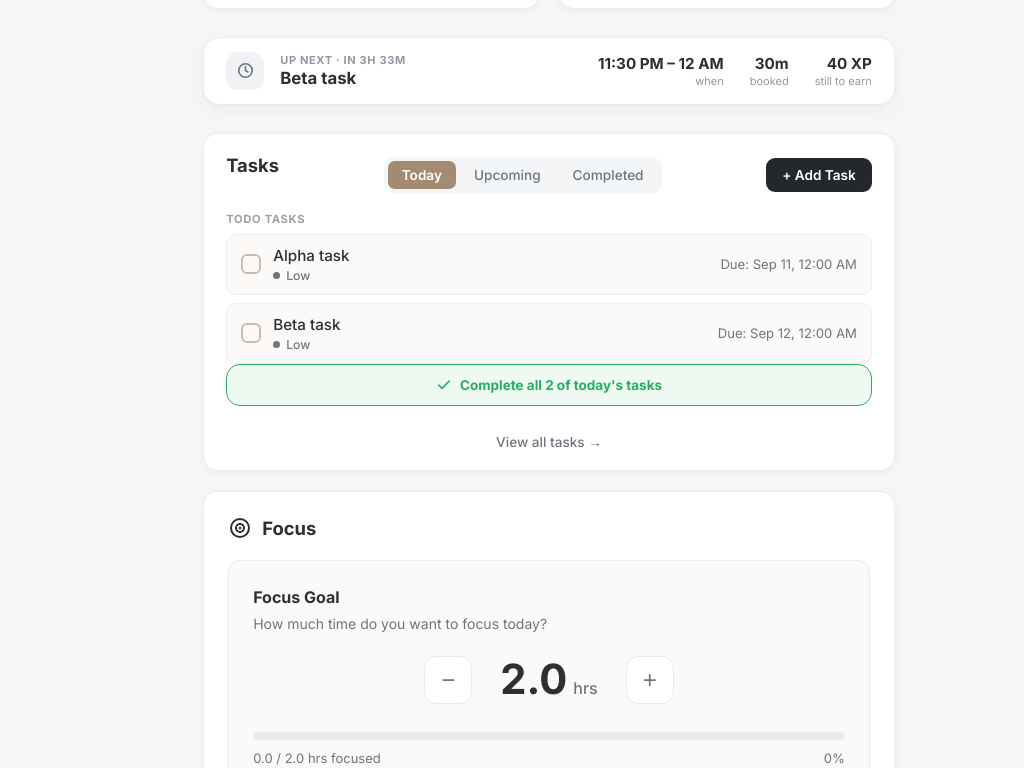
Test case: finishing the day from the dashboard › then asks about each one in turn
(page scrolled)
Step 1. Click the button "Complete all 2 of today's tasks" → x=549, y=385, box [226,364,872,406]
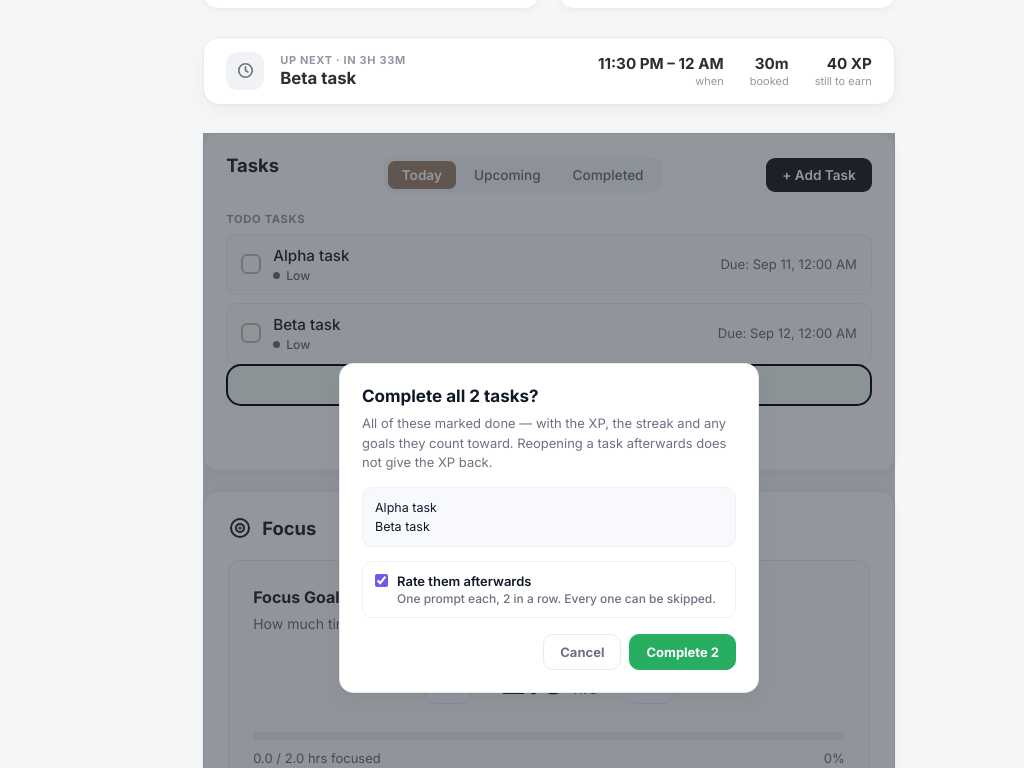
Step 2. Click the button "Complete 2" → x=683, y=652, box [629,634,736,670]
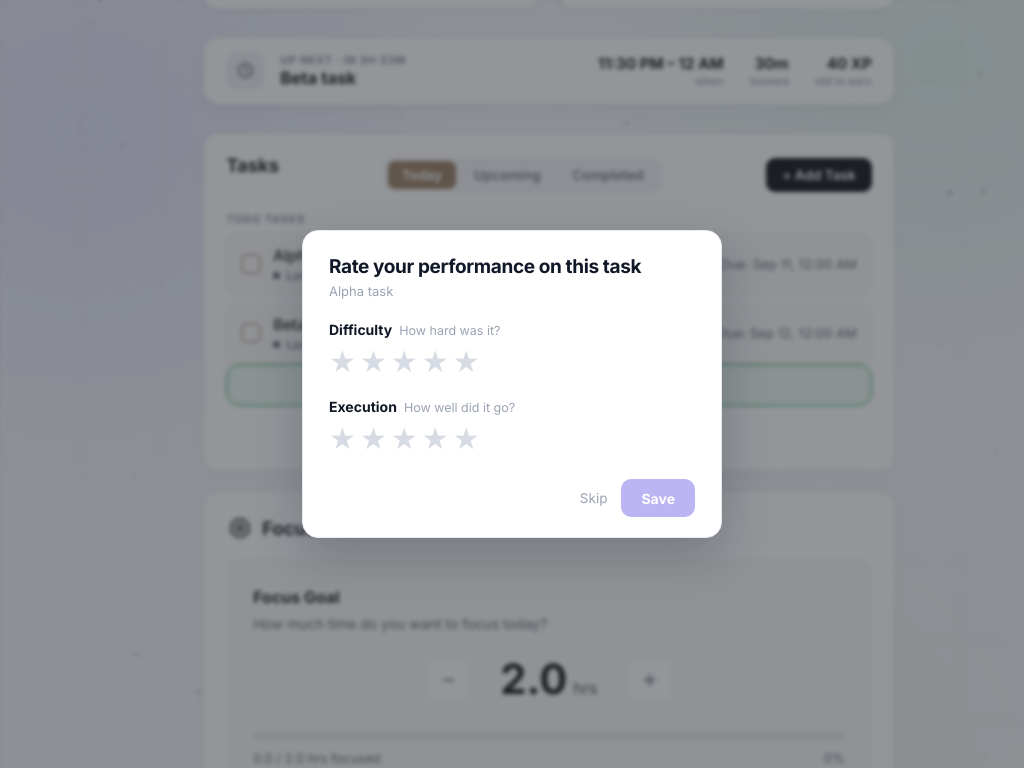
Now the text "Alpha task" is shown, box [329,283,393,299]
Step 3. Click the button "Skip" → x=594, y=498, box [580,490,607,506]
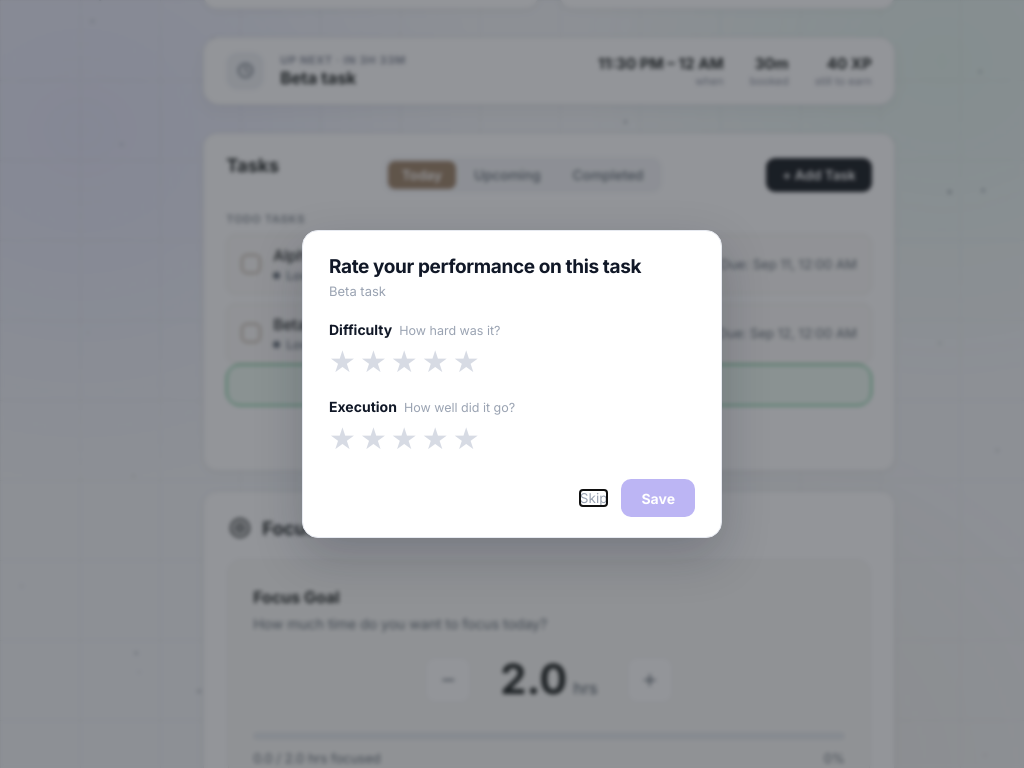
Now the text "Beta task" is shown, box [329,283,386,299]
Step 4. Click the button "Skip" → x=594, y=498, box [580,490,607,506]
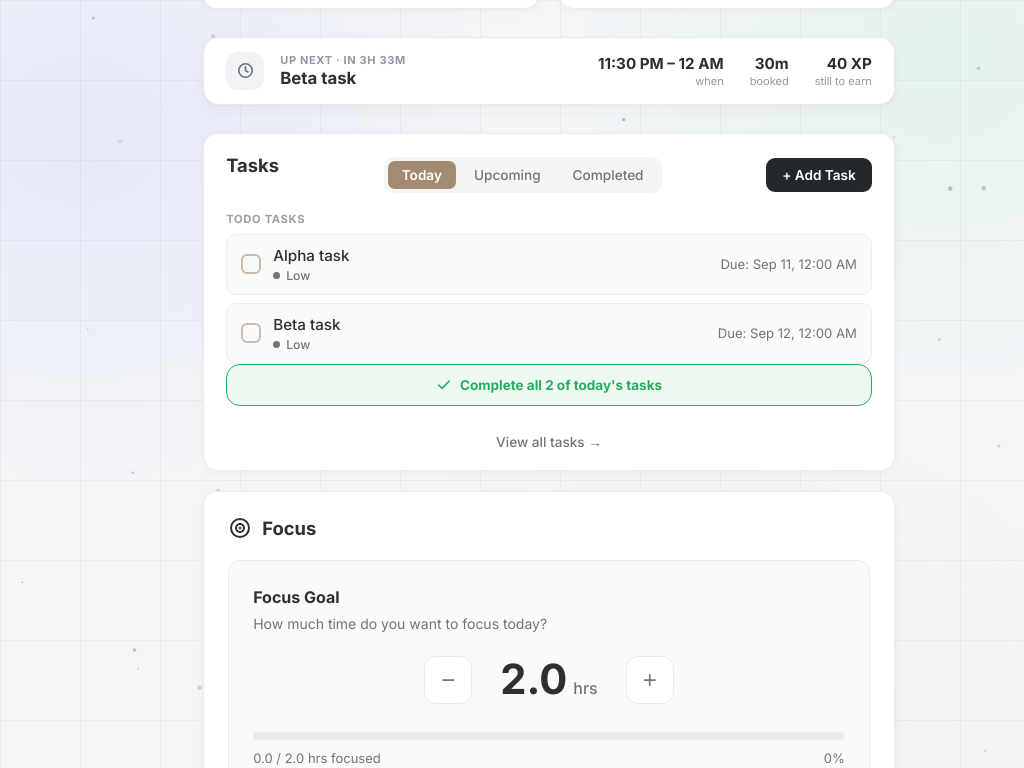
Now the heading "Rate your performance on this task" is gone
